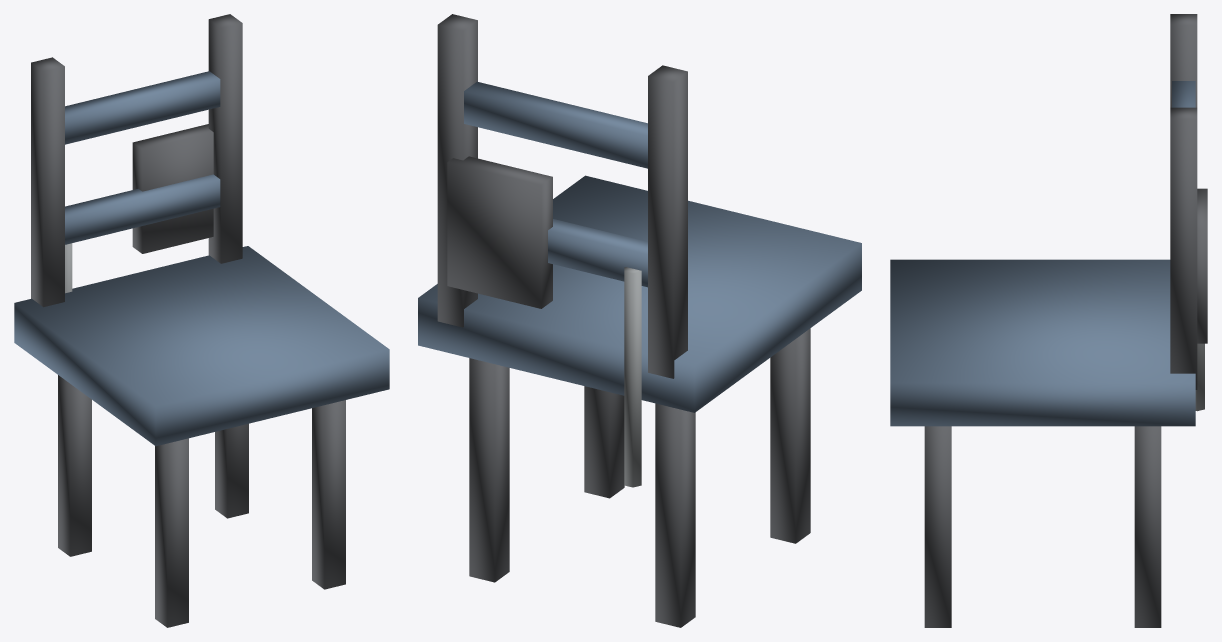
File: courtroom_spectator_chair__service.glb
3 renders of one model, left to right at view 1: azimuth 30°, elevation 25°; view 2: azimuth 150°, elevation 25°; view 3: azimuth 270°, elevation 25°, orthographic. The views are drawn at different scales.
Visible parts, largest first — view 1: world; view 2: world; view 3: world.
Part boxes in pixels (x1,y1,x2,y2): world: [14, 14, 389, 627]; world: [418, 14, 861, 627]; world: [890, 14, 1207, 627].
Bounding box in the file's own units: 0.488 × 0.949 × 0.5311.
